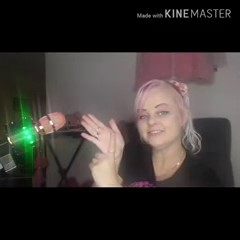L: (79, 111, 128, 189)
